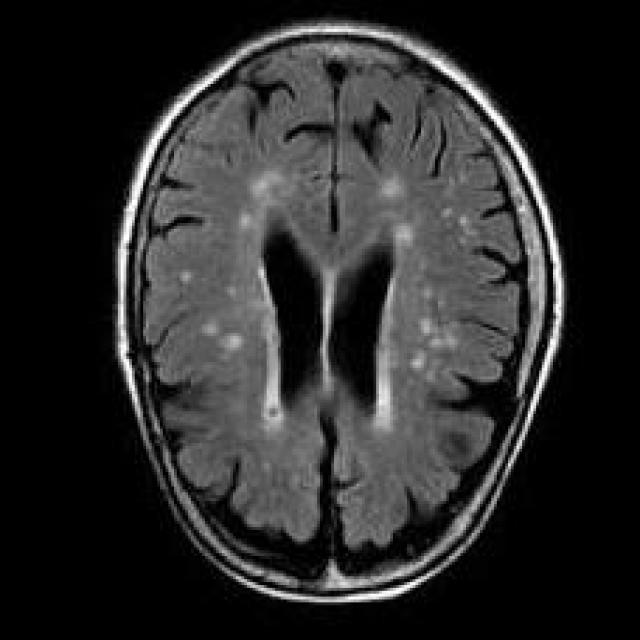notumor: (118, 23, 564, 602)
